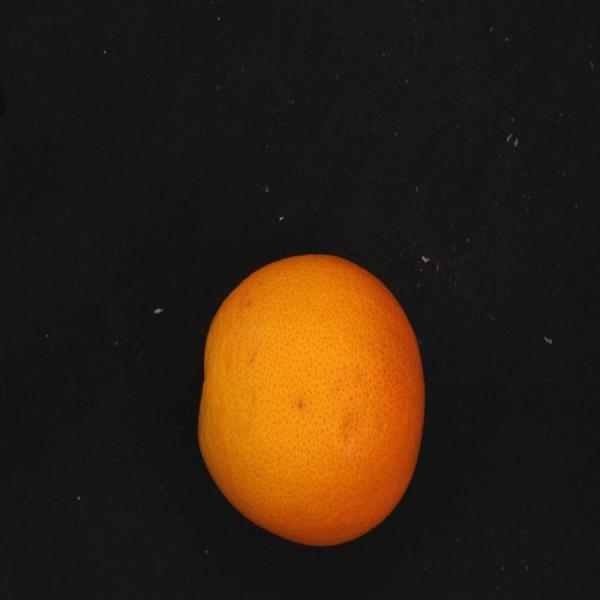Sana: (184, 230, 429, 560)
